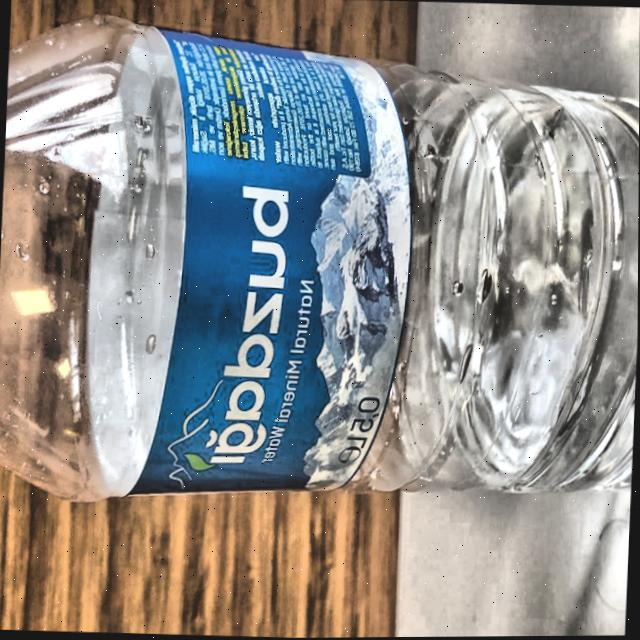plastic: (0, 3, 640, 521)
